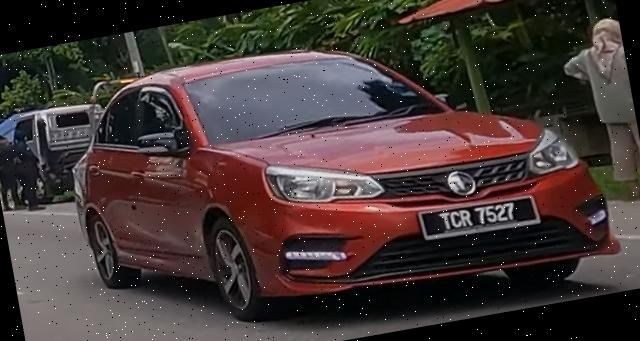License_Plate: (416, 188, 542, 244)
car: (53, 1, 627, 341)
